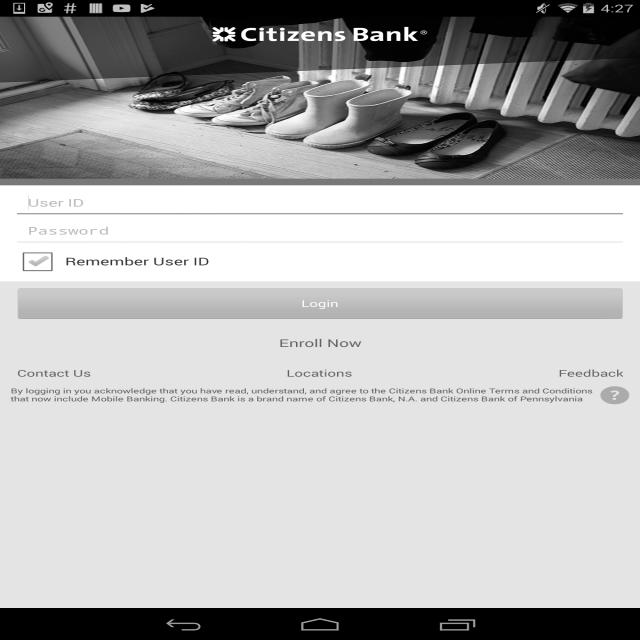Button: (17, 288, 623, 319)
CheckBox: (17, 248, 60, 275)
EditText: (17, 220, 623, 243), (17, 195, 623, 215)
ImageButton: (600, 386, 629, 404)
ImageView: (212, 16, 427, 42)
TextView: (5, 379, 600, 410), (0, 332, 640, 353), (17, 367, 219, 379), (218, 367, 420, 379), (421, 367, 623, 379), (65, 254, 210, 268)
